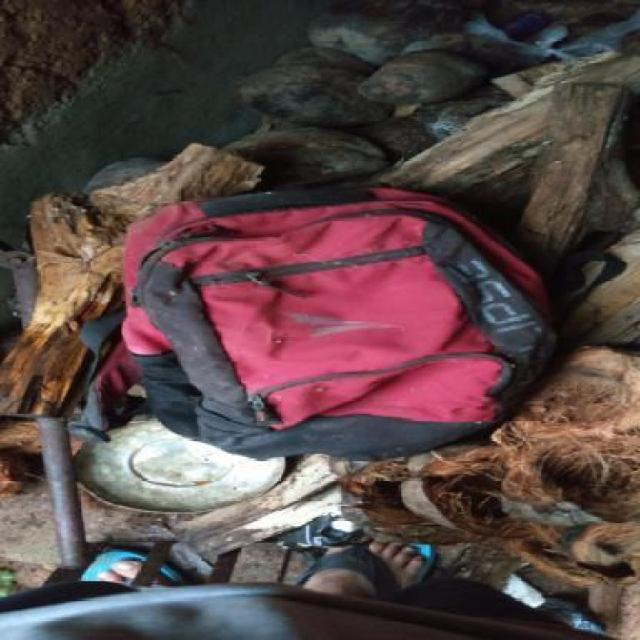backpack: (114, 177, 566, 466)
